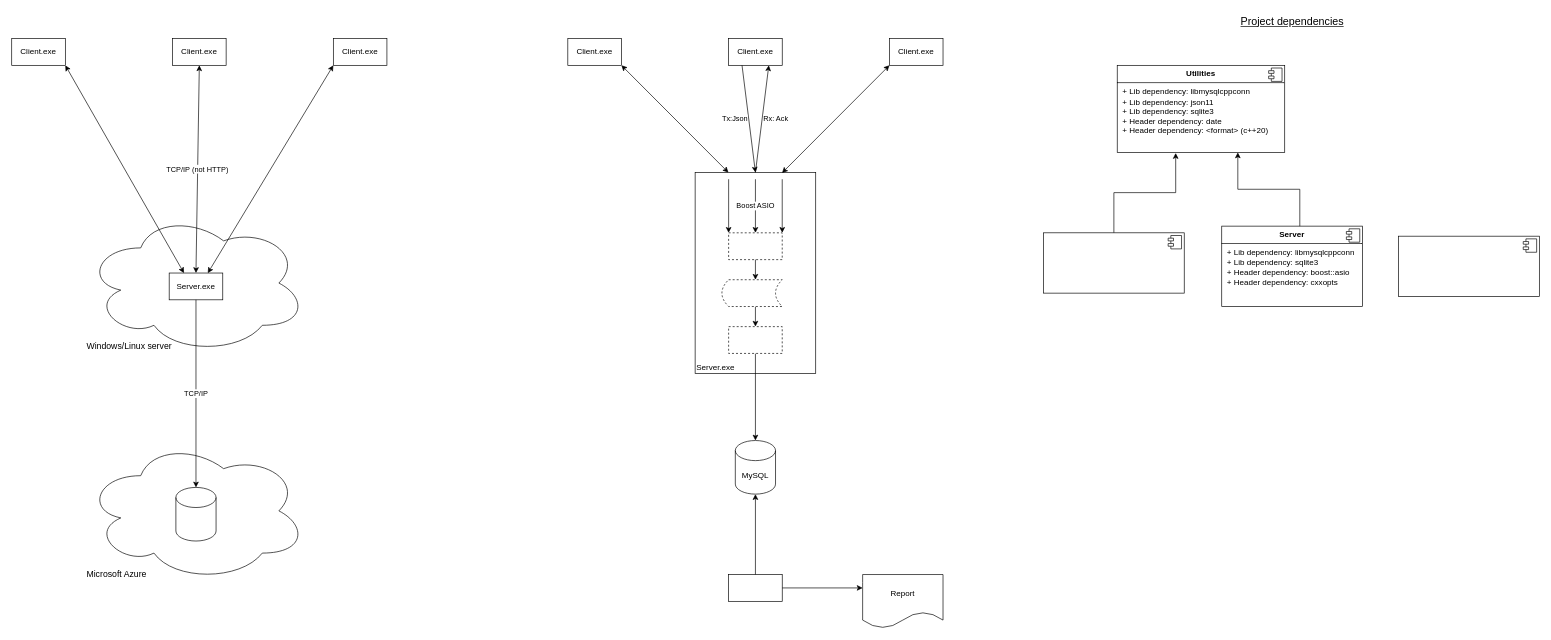
This 1551x640 diagram has some shape labels left out. The shapes that lost their labels are listed below. From the top down, each one's centre as x and y in pixels, then its label:
point (755, 246): Producer
point (1113, 262): Client + Header dependency: boost::asio + Header dependency: cxxopts
point (1468, 266): Query + Lib dependency: libmysqlcppconn + Header dependency: cxxopts
point (751, 293): Queue
point (755, 339): Consumer thread
point (195, 514): MySQL server
point (755, 587): Query.exe
